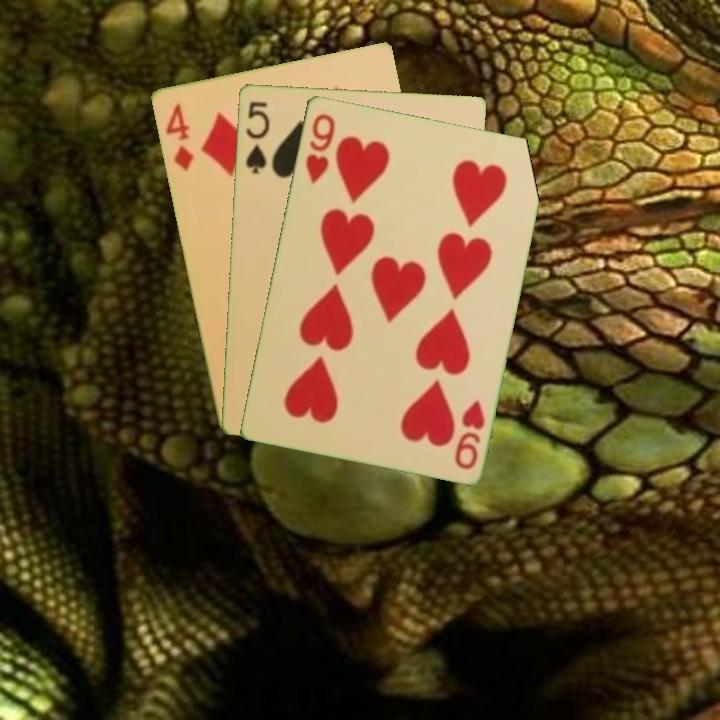4d: (161, 100, 197, 174)
5s: (241, 98, 272, 176)
9h: (450, 396, 488, 472), (301, 109, 338, 186)
